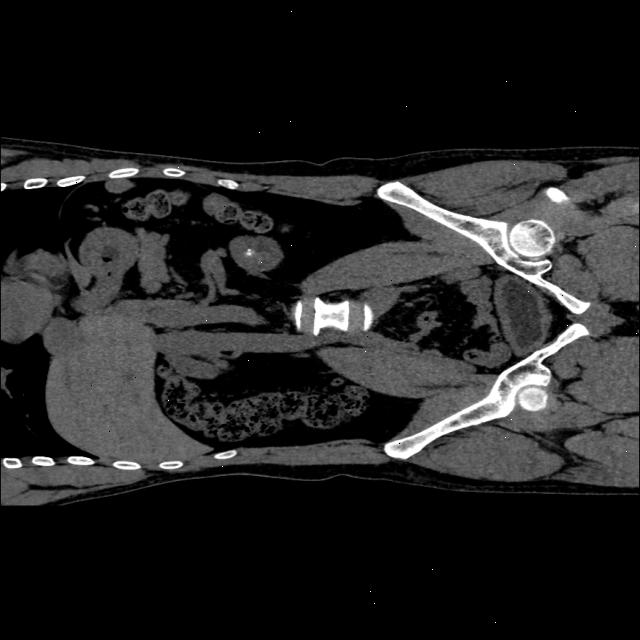kidneystone: (230, 246, 255, 255)
